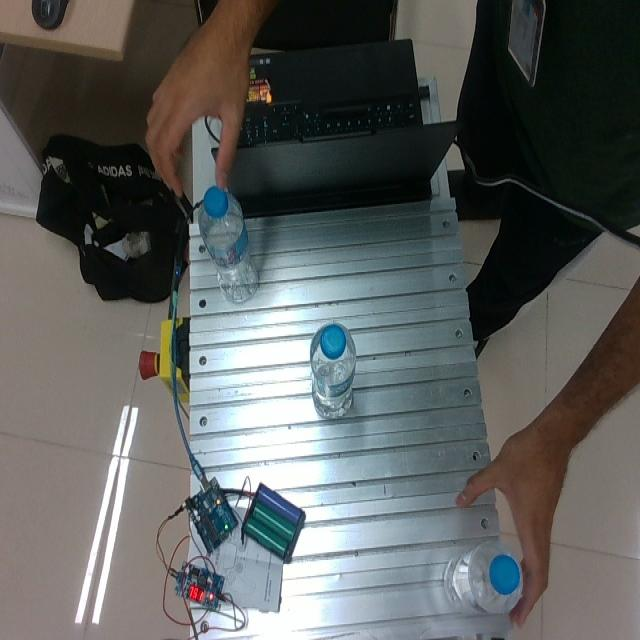lavie: (198, 184, 259, 304), (443, 540, 523, 615), (309, 322, 356, 418)
